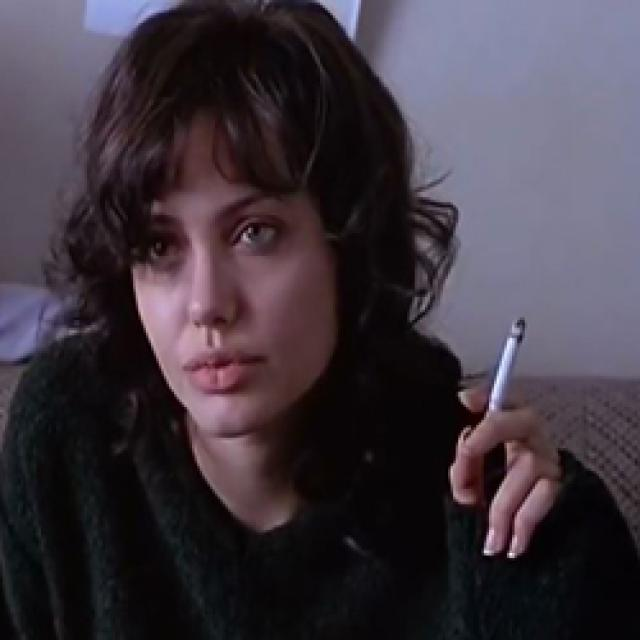Smooking: (481, 297, 529, 404)
